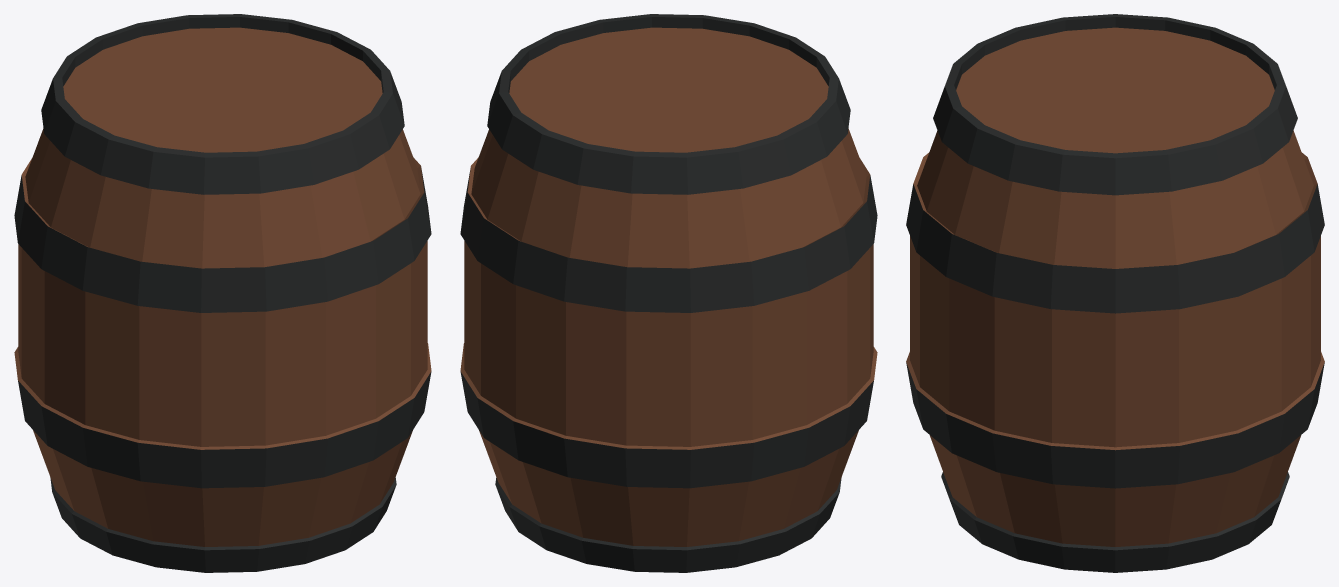
Rendered from barril.fbx.
3 renders of one model, left to right at view 1: azimuth 30°, elevation 25°; view 2: azimuth 150°, elevation 25°; view 3: azimuth 270°, elevation 25°, orthographic.
Visible parts, largest first — view 1: Cylinder.011; view 2: Cylinder.011; view 3: Cylinder.011.
Part boxes in pixels (left/top/right/bottom): Cylinder.011: left=14, top=14, right=431, bottom=572; Cylinder.011: left=460, top=14, right=877, bottom=572; Cylinder.011: left=906, top=14, right=1324, bottom=572.
Size of the model in its own units: 132 by 146 by 132.
